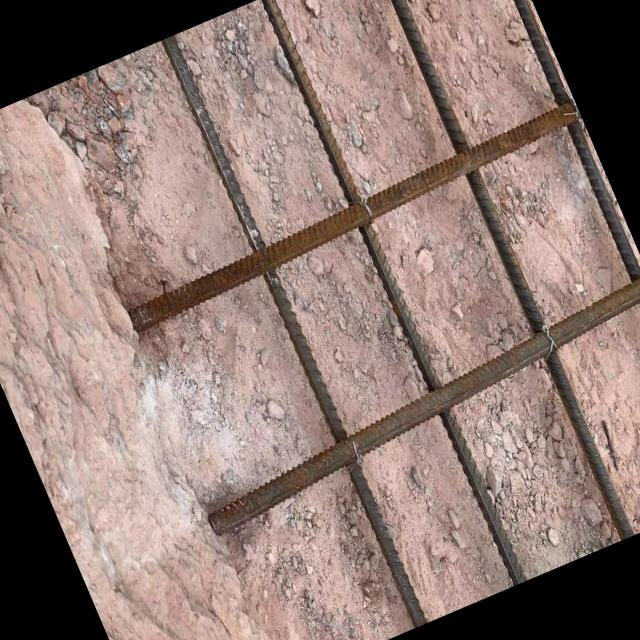ribbed bar: (160, 34, 428, 630), (258, 0, 526, 588), (369, 0, 633, 540), (184, 270, 640, 542), (114, 97, 592, 336), (471, 0, 640, 497)
